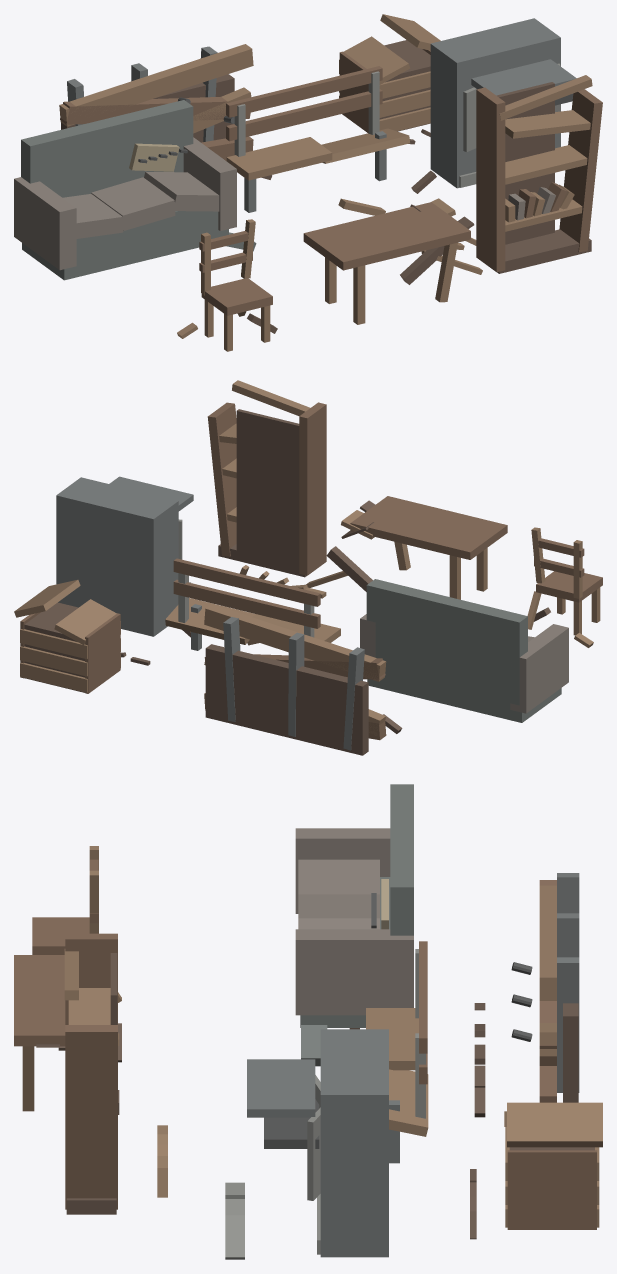
The model's file is Combined_Room_Clutter.glb.
3 views of the same model, one above another, from view 1: azimuth 30°, elevation 25°; view 2: azimuth 150°, elevation 25°; view 3: azimuth 270°, elevation 25° (orthographic). The views are drawn at different scales.
Visible parts, largest first — view 1: Torn_Sofa_001, Ransacked_Cabinet_000, Collapsed_Table_000, Torn_Sofa_000, Smashed_Bookshelf_001, Torn_Sofa_002, Makeshift_Barricade_004, Smashed_Bookshelf_002, Smashed_Bookshelf_007, Torn_Sofa_005, Broken_Waiting_Bench_000, Torn_Sofa_003 (+36 smaller); view 2: Ransacked_Cabinet_000, Torn_Sofa_001, Makeshift_Barricade_000, Smashed_Bookshelf_007, Collapsed_Table_000, Smashed_Bookshelf_001, Torn_Sofa_002, Makeshift_Barricade_004, Smashed_Bookshelf_002, Torn_Sofa_000, Broken_Waiting_Bench_004, Broken_Waiting_Bench_005 (+21 smaller); view 3: Ransacked_Cabinet_000, Torn_Sofa_003, Smashed_Bookshelf_002, Splintered_Crate_008, Collapsed_Table_000, Splintered_Crate_010, Ransacked_Cabinet_004, Torn_Sofa_001, Torn_Sofa_002, Torn_Sofa_004, Smashed_Bookshelf_001, Broken_Waiting_Bench_000 (+21 smaller).
Boxes of the visible parts, x1,y1,x2,y2 form: Torn_Sofa_001: (21, 100, 193, 197); Ransacked_Cabinet_000: (430, 18, 560, 188); Collapsed_Table_000: (303, 202, 470, 270); Torn_Sofa_000: (22, 211, 228, 280); Smashed_Bookshelf_001: (476, 87, 505, 272); Torn_Sofa_002: (14, 177, 76, 270); Makeshift_Barricade_004: (59, 44, 253, 126); Smashed_Bookshelf_002: (559, 89, 602, 252); Smashed_Bookshelf_007: (496, 82, 554, 244); Torn_Sofa_005: (91, 177, 175, 230); Broken_Waiting_Bench_000: (226, 137, 332, 180); Torn_Sofa_003: (183, 137, 236, 230); Ransacked_Cabinet_000: (56, 477, 178, 636); Torn_Sofa_001: (366, 579, 527, 705); Makeshift_Barricade_000: (205, 644, 368, 755); Smashed_Bookshelf_007: (236, 409, 299, 568); Collapsed_Table_000: (350, 496, 507, 559); Smashed_Bookshelf_001: (299, 402, 326, 575); Torn_Sofa_002: (510, 624, 568, 713); Makeshift_Barricade_004: (204, 604, 386, 681); Smashed_Bookshelf_002: (207, 402, 236, 556); Torn_Sofa_000: (367, 673, 561, 722); Broken_Waiting_Bench_004: (173, 579, 320, 628); Broken_Waiting_Bench_005: (173, 558, 320, 606); Ransacked_Cabinet_000: (320, 1029, 388, 1257); Torn_Sofa_003: (295, 929, 413, 1015); Smashed_Bookshelf_002: (65, 1025, 117, 1209); Splintered_Crate_008: (507, 1150, 596, 1229); Collapsed_Table_000: (14, 955, 65, 1046); Splintered_Crate_010: (507, 1102, 602, 1147); Ransacked_Cabinet_004: (247, 1059, 315, 1117); Torn_Sofa_001: (390, 784, 413, 935); Torn_Sofa_002: (295, 828, 390, 913); Torn_Sofa_004: (298, 859, 379, 894); Smashed_Bookshelf_001: (65, 933, 117, 1024); Broken_Waiting_Bench_000: (366, 1008, 418, 1070).
Size of the model in its own units: 5.79 by 2 by 4.47.
